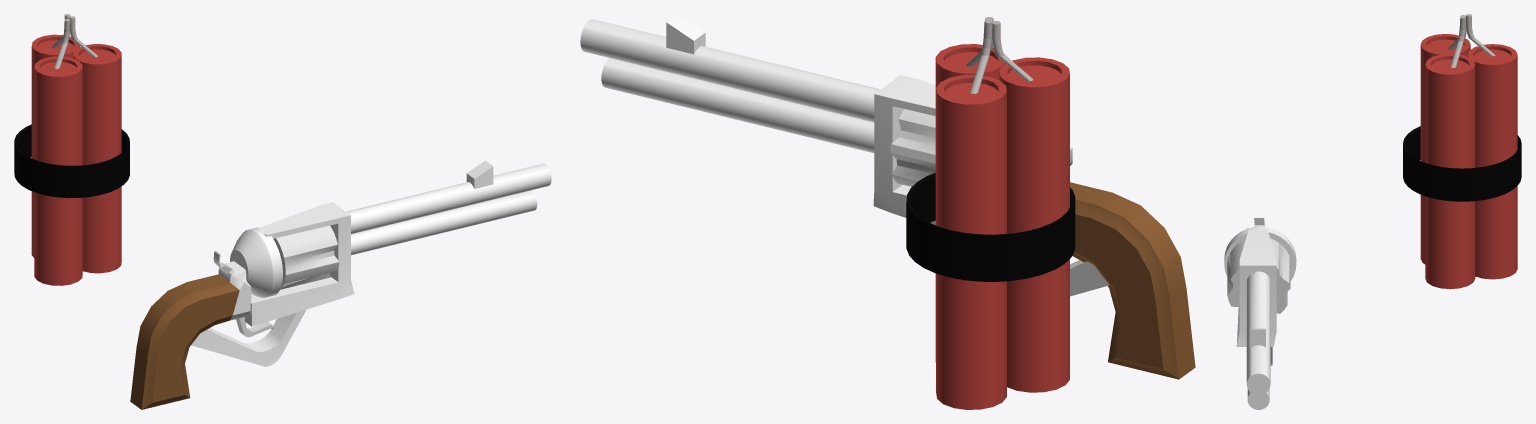
File: Weapon.fbx
3 renders of one model, left to right at view 1: azimuth 30°, elevation 25°; view 2: azimuth 150°, elevation 25°; view 3: azimuth 270°, elevation 25°, orthographic. The views are drawn at different scales.
Visible parts, largest first — view 1: RevolverBody, Dynamite, Cylinder; view 2: Dynamite, RevolverBody, Cylinder; view 3: Dynamite, RevolverBody, Cylinder.
Boxes of the visible parts, x1=… form: RevolverBody: x1=130, y1=160, x2=551, y2=409; Dynamite: x1=14, y1=14, x2=129, y2=285; Cylinder: x1=273, y1=225, x2=339, y2=289; Dynamite: x1=906, y1=17, x2=1075, y2=409; RevolverBody: x1=580, y1=14, x2=1195, y2=379; Cylinder: x1=890, y1=109, x2=935, y2=186; Dynamite: x1=1403, y1=14, x2=1521, y2=289; RevolverBody: x1=1224, y1=226, x2=1296, y2=409; Cylinder: x1=1227, y1=238, x2=1290, y2=313.
Bounding box in the file's own units: 1033 × 715 × 611.
Materials: 2 (2 with a texture image).
